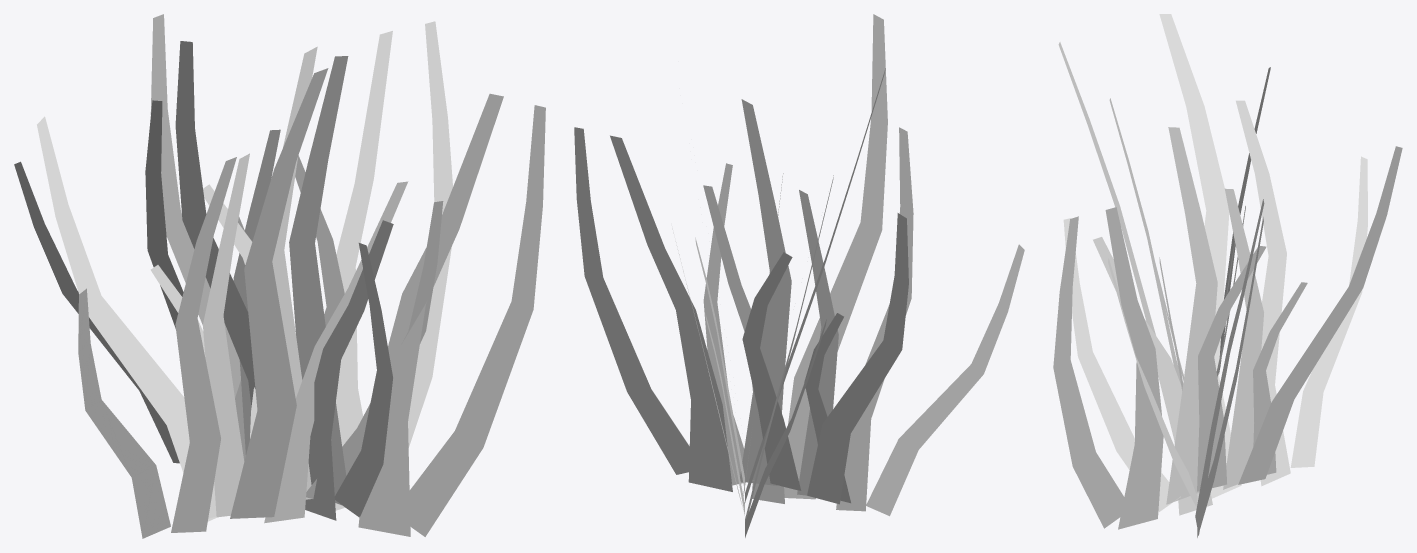
File: Grass_01.fbx
3 renders of one model, left to right at view 1: azimuth 30°, elevation 25°; view 2: azimuth 150°, elevation 25°; view 3: azimuth 270°, elevation 25°, orthographic. The views are drawn at different scales.
Visible parts, largest first — view 1: Grass_01; view 2: Grass_01; view 3: Grass_01.
Boxes of the visible parts, x1,y1,x2,y2 form: Grass_01: (14, 14, 545, 538); Grass_01: (574, 14, 1024, 537); Grass_01: (1053, 14, 1402, 537).
Bounding box in the file's own units: 0.0715 × 0.08 × 0.0578.
1 material, 1 textured.
